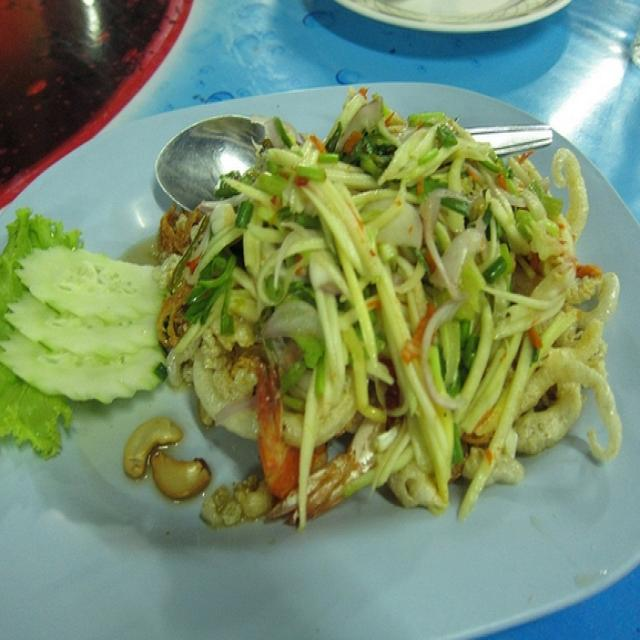蔬菜料理: (183, 149, 591, 495)
